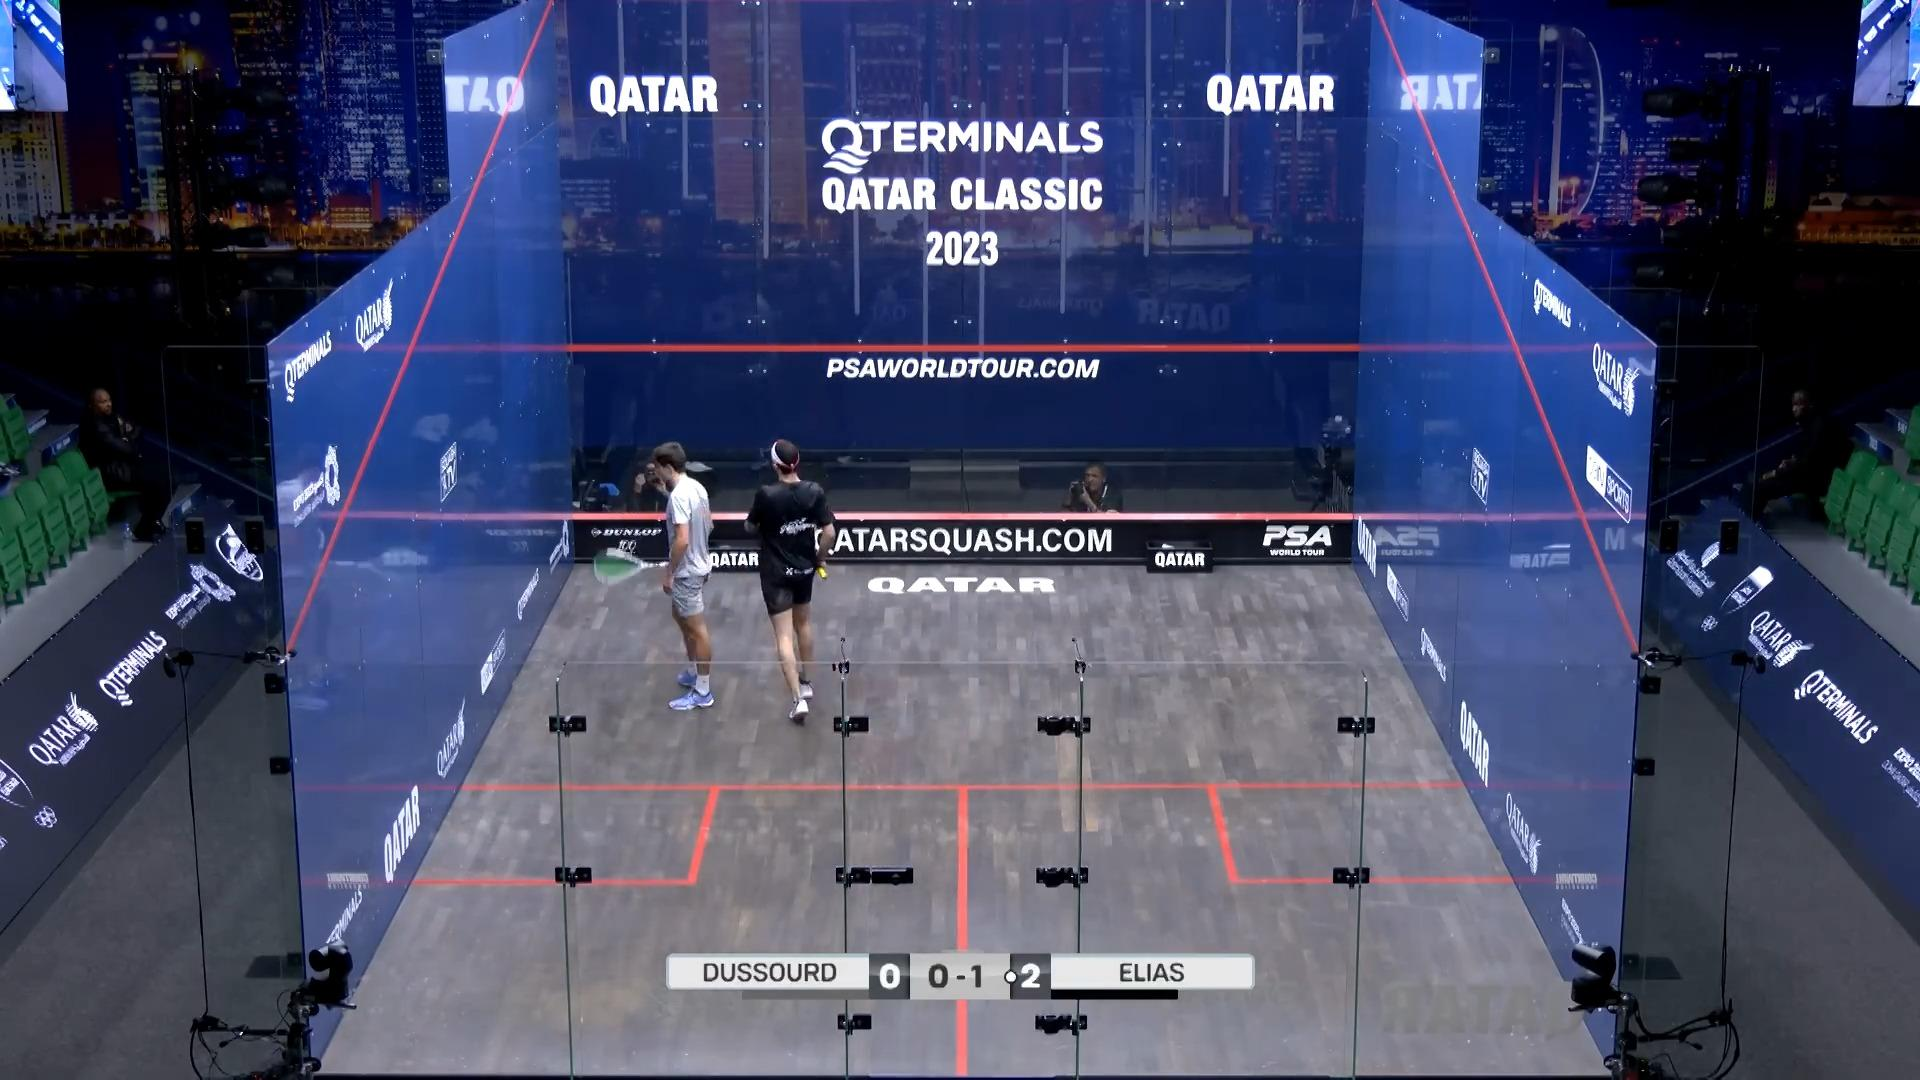Racket: (589, 545, 670, 589)
